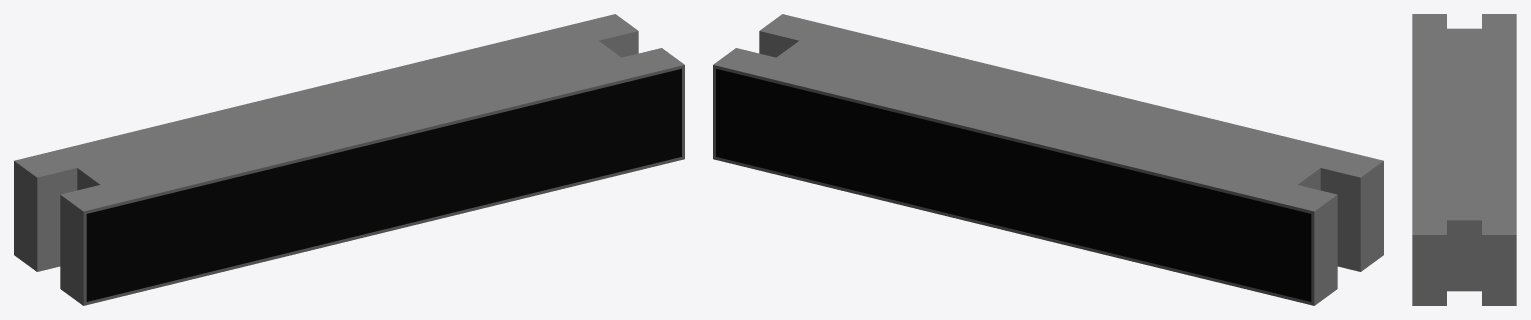
File: Module_BSARR.dae
The picture shows the model from 3 angles, left to right: view 1: azimuth 30°, elevation 25°; view 2: azimuth 150°, elevation 25°; view 3: azimuth 270°, elevation 25°; orthographic projection. The views are drawn at different scales.
Visible parts, largest first — view 1: SketchUp (×3); view 2: SketchUp (×3); view 3: SketchUp.
Part boxes in pixels (box(x1,y1,x2,y2)): SketchUp (×3): box(14, 14, 684, 305); SketchUp (×3): box(713, 14, 1383, 305); SketchUp: box(1412, 14, 1516, 305).
Size of the model in its own units: 39.37 by 7.87 by 5.91.
3 materials, 3 textured.
